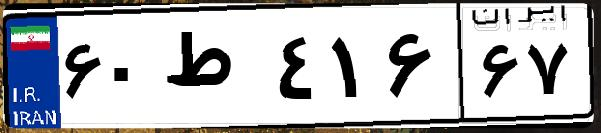0: (110, 28, 158, 98)
1: (330, 28, 385, 110)
4: (270, 28, 330, 110)
6: (385, 28, 445, 110), (57, 26, 110, 100), (475, 38, 525, 113)
7: (525, 38, 570, 115)
ط: (158, 20, 270, 120)
